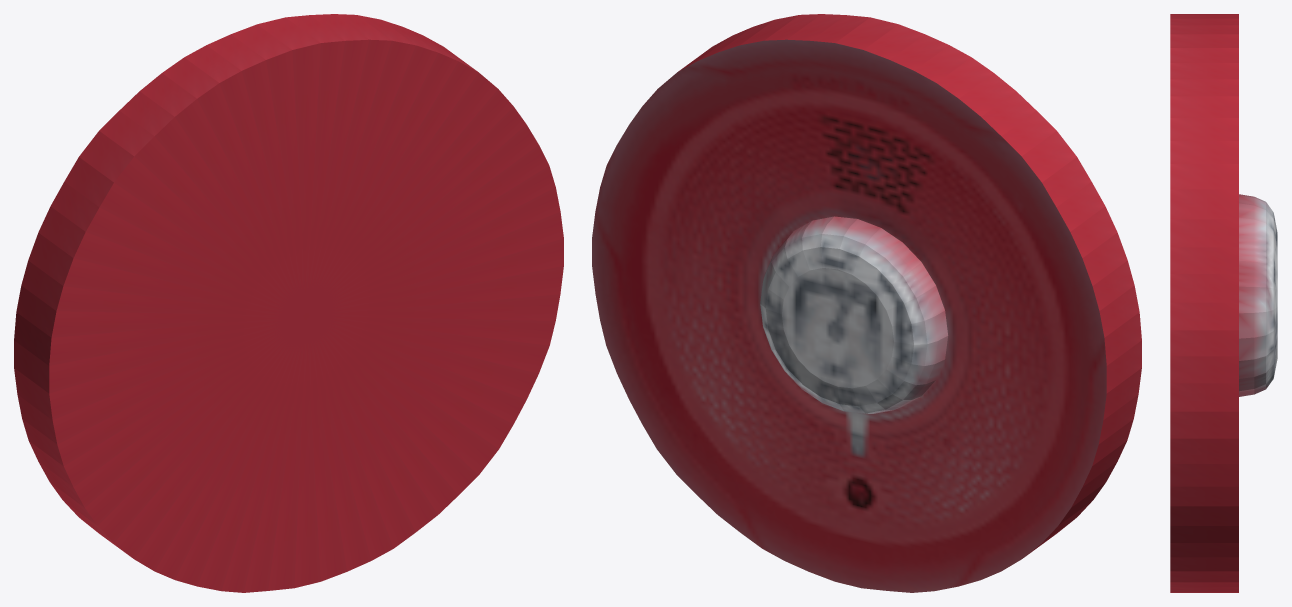
File: systemsensor_lseries_ceiling_hornstrobe.obj
3 renders of one model, left to right at view 1: azimuth 30°, elevation 25°; view 2: azimuth 150°, elevation 25°; view 3: azimuth 270°, elevation 25°, orthographic. The views are drawn at different scales.
Parts seen in each view (by area): view 1: lseries_ceiling_hornstrobe; view 2: lseries_ceiling_hornstrobe; view 3: lseries_ceiling_hornstrobe.
Boxes of the visible parts, bbox=[...] form: lseries_ceiling_hornstrobe: bbox=[14, 14, 563, 592]; lseries_ceiling_hornstrobe: bbox=[592, 14, 1141, 592]; lseries_ceiling_hornstrobe: bbox=[1170, 14, 1277, 592].
Bounding box in the file's own units: 0.8441 × 0.8441 × 0.1562.
